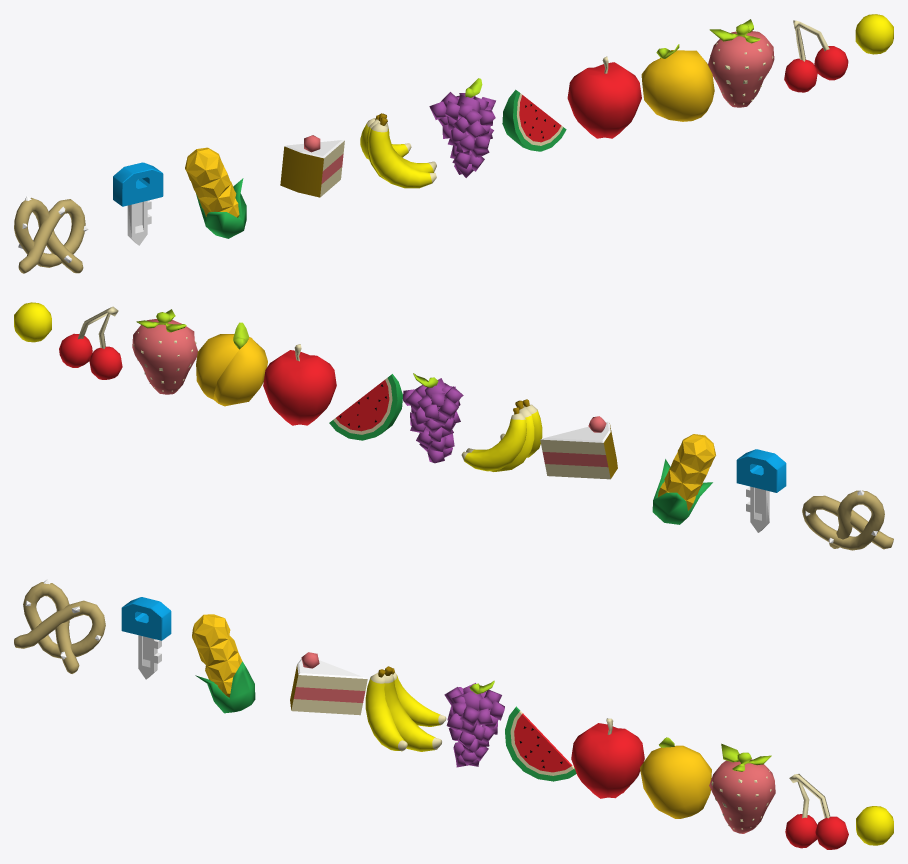
Rendered from food.FBX.
3 renders of one model, top to bottom at view 1: azimuth 30°, elevation 25°; view 2: azimuth 150°, elevation 25°; view 3: azimuth 330°, elevation 25°, orthographic.
Parts seen in each view (by area): view 1: peach, apple, strawberry, pretzel, grapes, corn, cake, banana, key, watermelon, cherry, pellet; view 2: peach, apple, strawberry, corn, cake, pretzel, grapes, banana, watermelon, key, cherry, pellet; view 3: banana, peach, apple, pretzel, strawberry, corn, cake, grapes, watermelon, key, cherry, pellet.
Boxes of the visible parts, bbox=[...] form: peach: bbox=[641, 44, 714, 121]; apple: bbox=[567, 56, 641, 138]; strawberry: bbox=[708, 19, 774, 107]; pretzel: bbox=[14, 196, 88, 273]; grapes: bbox=[429, 78, 495, 177]; corn: bbox=[185, 147, 246, 238]; cake: bbox=[280, 135, 344, 197]; banana: bbox=[360, 113, 436, 188]; key: bbox=[113, 162, 163, 245]; watermelon: bbox=[502, 89, 566, 151]; cherry: bbox=[784, 20, 848, 92]; pellet: bbox=[855, 14, 893, 54]; peach: bbox=[196, 322, 267, 406]; apple: bbox=[263, 344, 336, 425]; strawberry: bbox=[132, 309, 197, 394]; corn: bbox=[652, 434, 715, 524]; cake: bbox=[540, 416, 617, 479]; pretzel: bbox=[802, 490, 893, 550]; grapes: bbox=[403, 373, 463, 463]; banana: bbox=[461, 399, 542, 471]; watermelon: bbox=[329, 374, 402, 440]; key: bbox=[736, 449, 786, 532]; cherry: bbox=[59, 306, 122, 379]; pellet: bbox=[14, 302, 51, 342]; banana: bbox=[365, 666, 446, 751]; peach: bbox=[640, 737, 711, 818]; apple: bbox=[571, 718, 644, 798]; pretzel: bbox=[14, 579, 105, 673]; strawberry: bbox=[709, 743, 775, 833]; corn: bbox=[192, 614, 255, 713]; cake: bbox=[290, 652, 367, 715]; grapes: bbox=[444, 680, 504, 767]; watermelon: bbox=[505, 706, 576, 781]; key: bbox=[121, 597, 171, 679]; cherry: bbox=[785, 774, 848, 849]; pellet: bbox=[856, 806, 893, 845].
Size of the model in its own units: 338 by 33.55 by 27.04.
2 materials, 2 textured.
